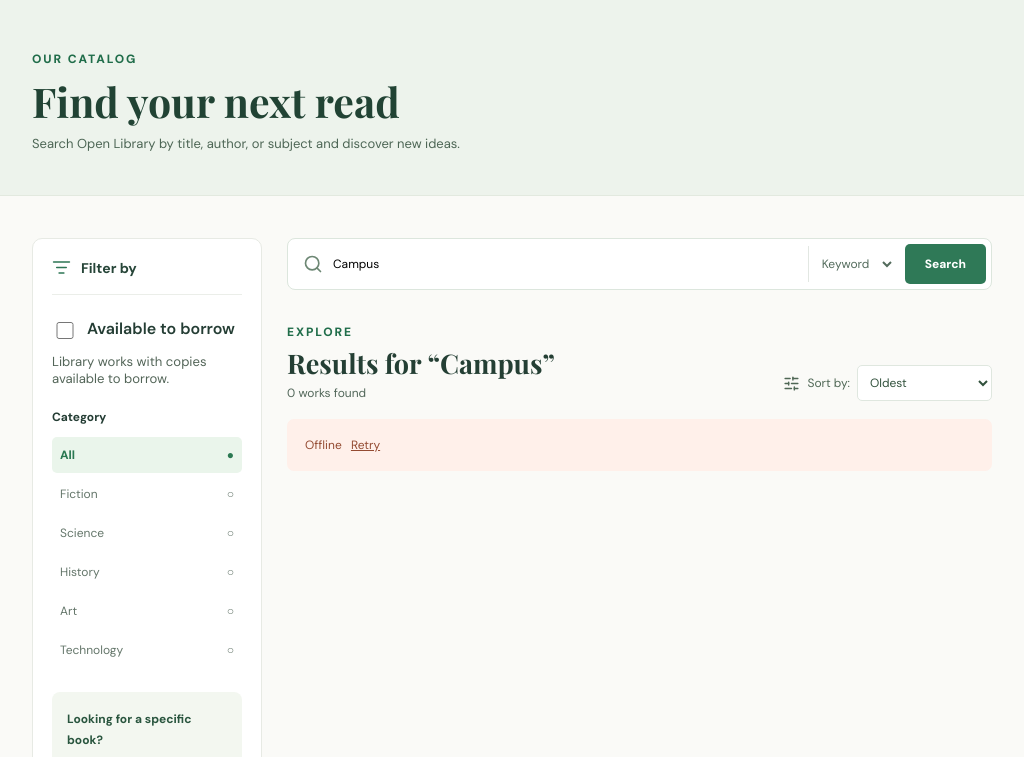
Test: errors allow retrying without losing the search
Expected: the message shows "Offline", [305, 437, 342, 453]
Click the button "Retry".
click(366, 445)  # box [345, 435, 386, 455]
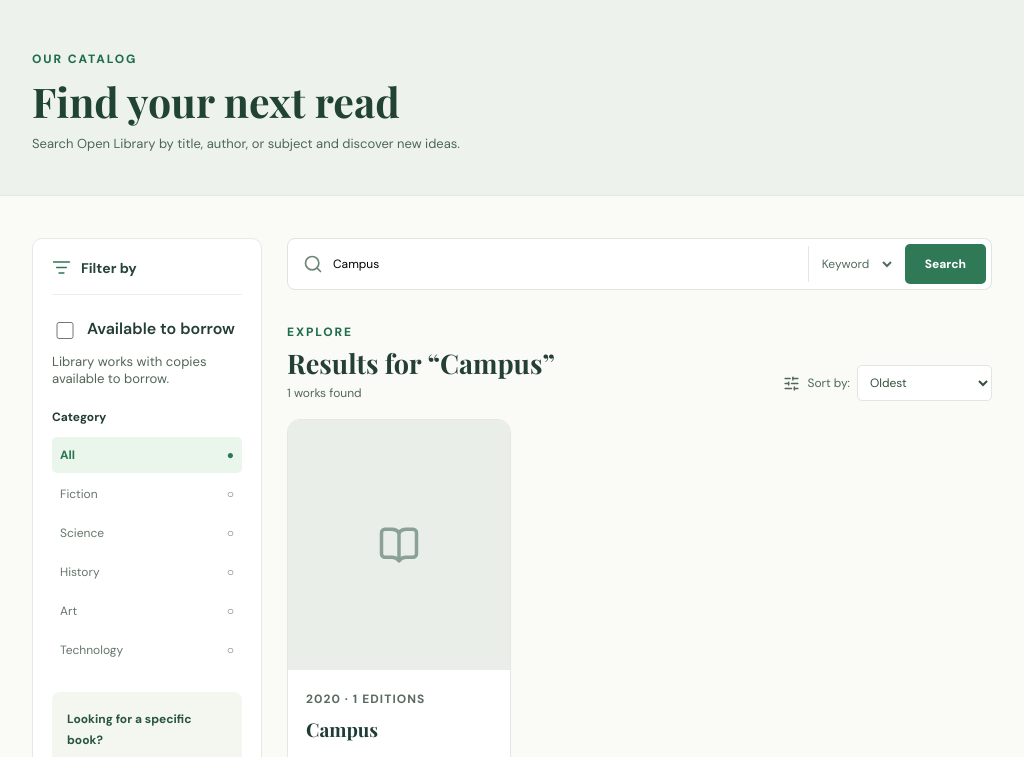
Result: the heading "Campus" is shown at [306, 716, 378, 742]
